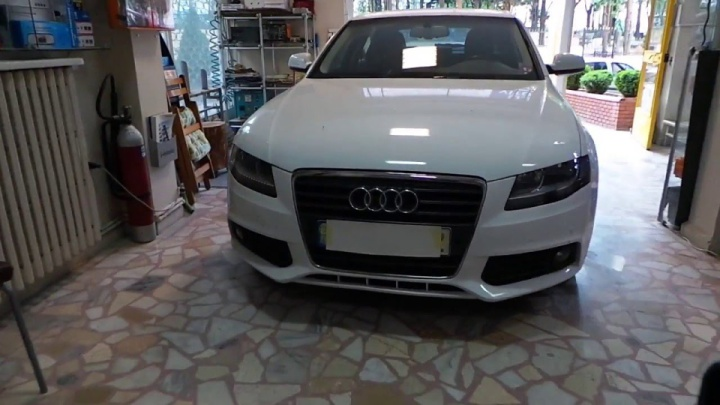audi: (346, 184, 425, 217)
